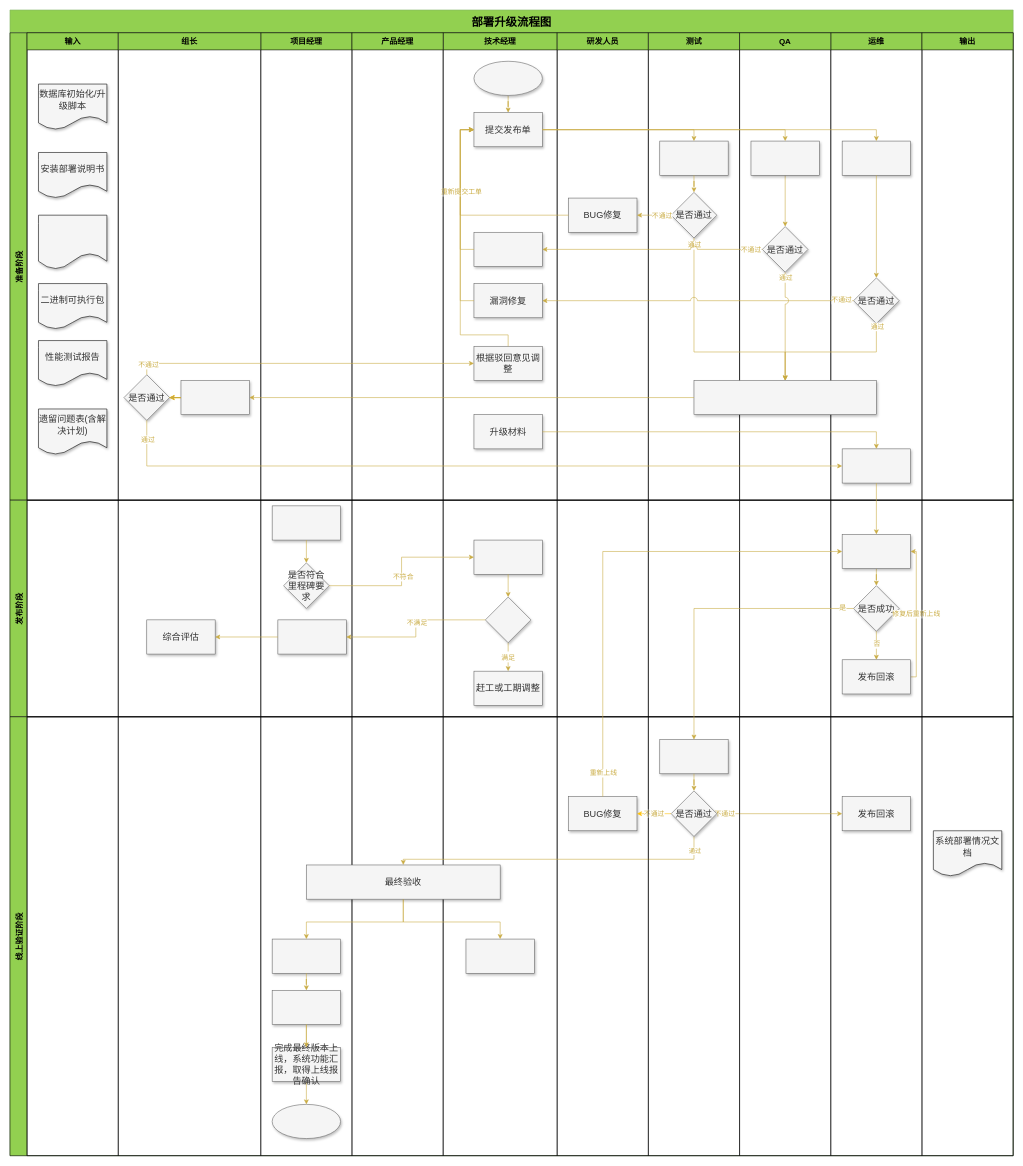
This 1023x1166 diagram has some shape labels left out. The centre of each missing label's shape, as x and y in pixels:
代码基线: the point at 500,956
全部通过: the point at 785,398
发布成功邮件: the point at 306,956
安全扫描: the point at 876,158
工期再次评估: the point at 508,557
开始: the point at 508,78
收到工单: the point at 215,398
材料补充完善: the point at 508,249
正式环境备份: the point at 876,466
测试审批: the point at 694,158
线上验证: the point at 694,757
结束: the point at 306,1122
网络拓朴图: the point at 73,242
计划监控: the point at 306,523
质量审查: the point at 785,158
资源是否满足要求: the point at 508,620
资源申请: the point at 312,637
迭代回顾会议: the point at 306,1008
部署上线: the point at 876,552
